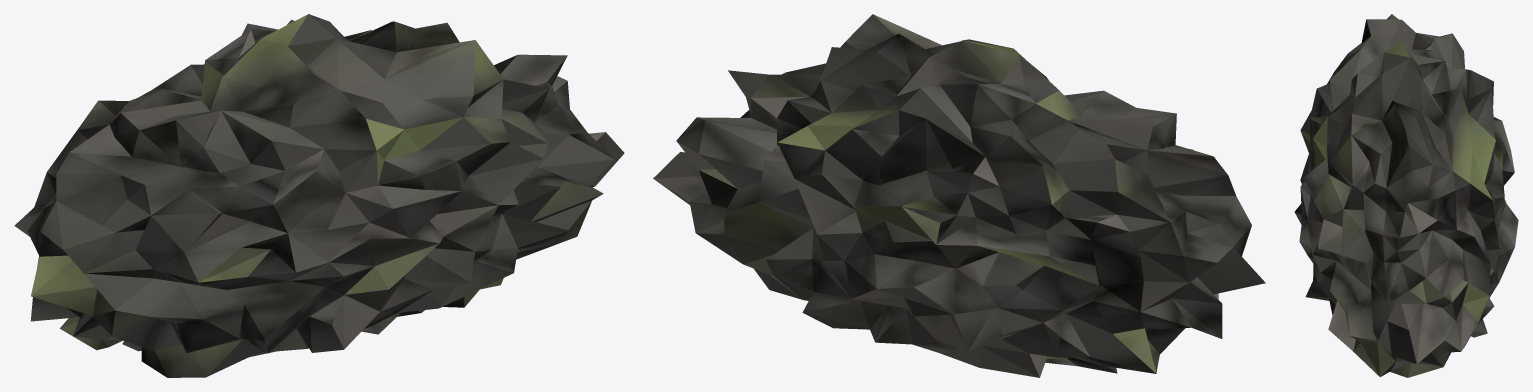
Rendered from cliffrock0.fbx.
The picture shows the model from 3 angles, left to right: view 1: azimuth 30°, elevation 25°; view 2: azimuth 150°, elevation 25°; view 3: azimuth 270°, elevation 25°; orthographic projection. The views are drawn at different scales.
Parts seen in each view (by area): view 1: cliffrock0; view 2: cliffrock0; view 3: cliffrock0.
Boxes of the visible parts, <box> form: cliffrock0: <box>14,14,624,377</box>; cliffrock0: <box>653,14,1265,377</box>; cliffrock0: <box>1294,14,1518,377</box>.
Size of the model in its own units: 5.74 by 2.71 by 2.21.
Materials: 1 (1 with a texture image).
